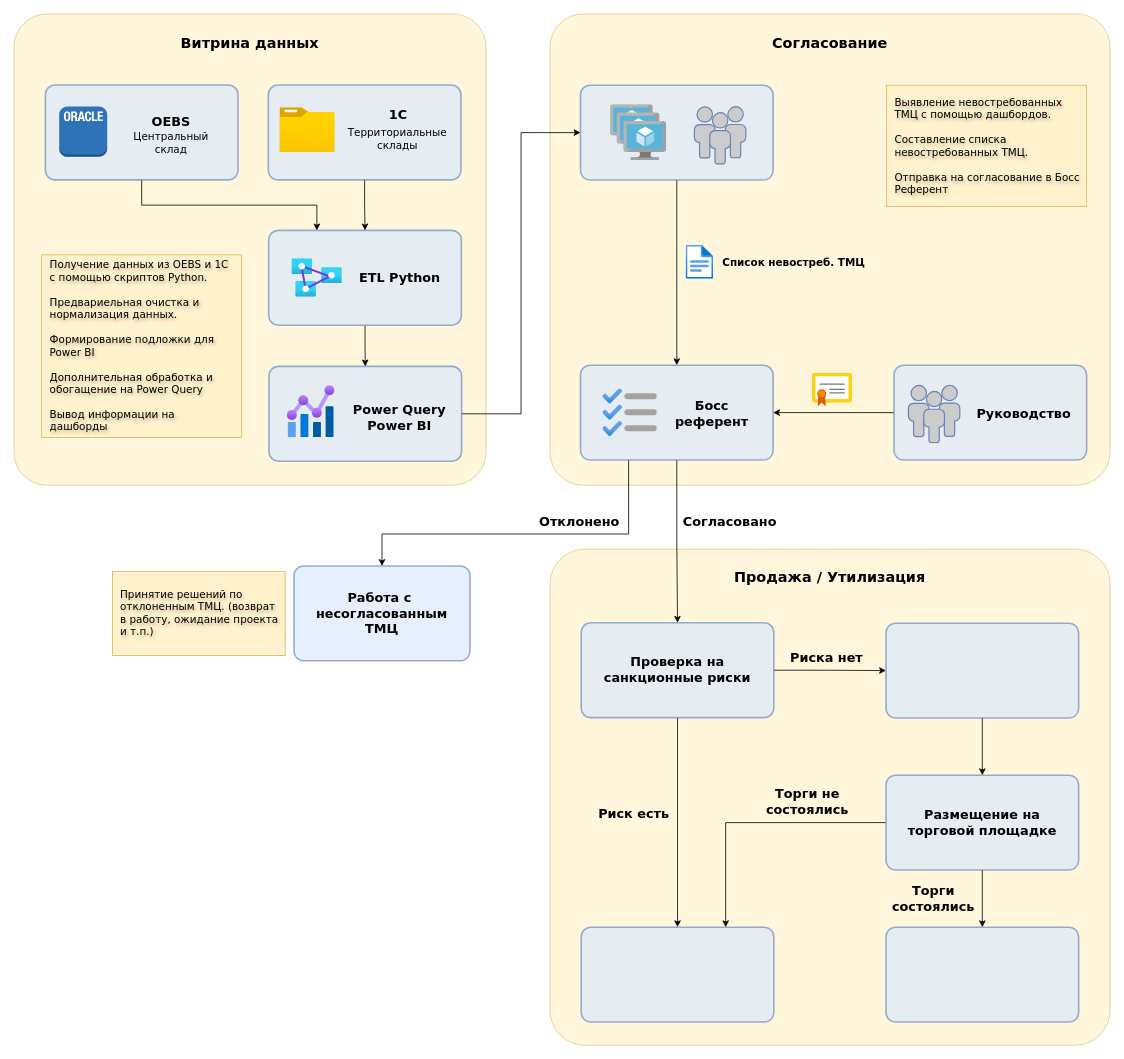
The diagram is 1124 pixels wide and 1059 high, and some of its shapes have lost their labels. Each missing label, with the box of its shape:
Отгрузка покупателю: (885, 926, 1079, 1022)
Подготовка пакета документов для торговой площадки: (885, 622, 1079, 718)
Утилизация: (580, 926, 774, 1022)
